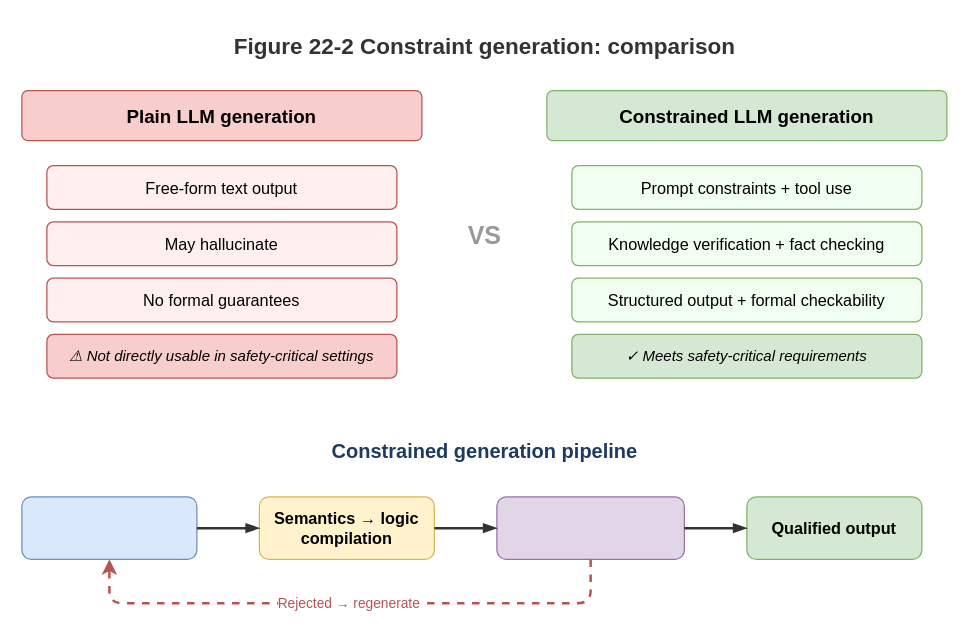
Some shapes in this 969 by 635 pixel diagram are drawn without their labels. The centre of each missing label's shape, as x and y in pixels:
Constraint check (solver verification): point (590, 527)
LLM output: point (109, 527)
